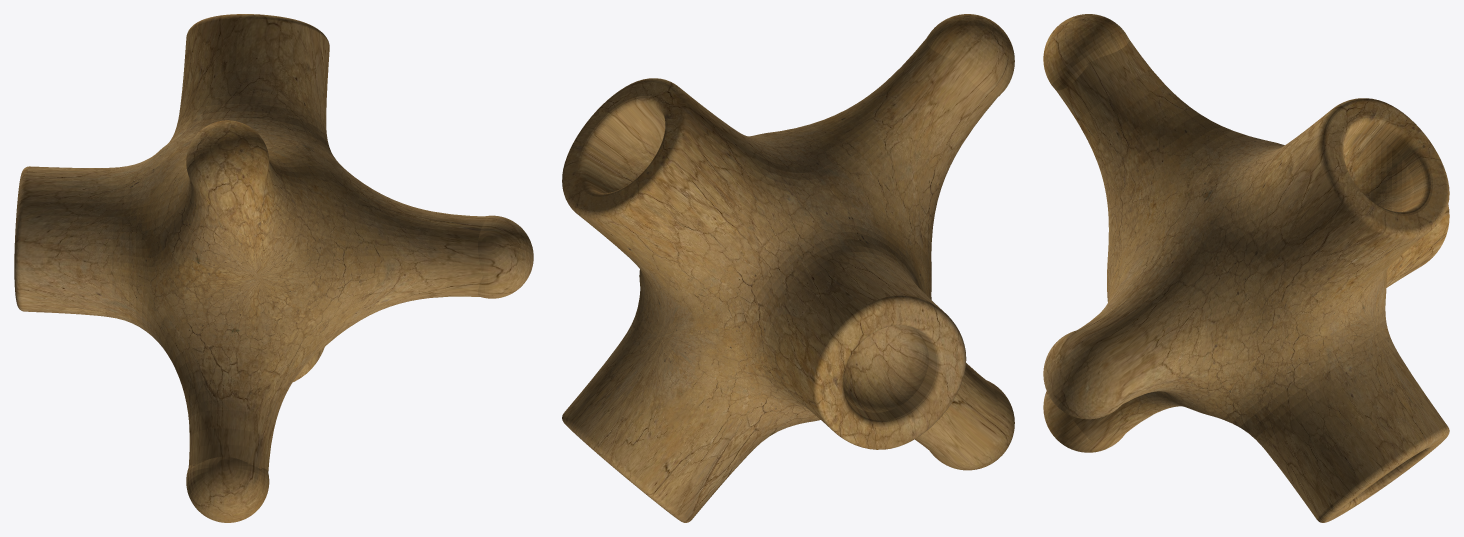
Rendered from Octa2.glb.
3 renders of one model, left to right at view 1: azimuth 30°, elevation 25°; view 2: azimuth 150°, elevation 25°; view 3: azimuth 270°, elevation 25°, orthographic. The views are drawn at different scales.
Parts seen in each view (by area): view 1: object_0_brick-foundation-1; view 2: object_0_brick-foundation-1; view 3: object_0_brick-foundation-1.
Part boxes in pixels (bbox=[...]): object_0_brick-foundation-1: bbox=[14, 14, 533, 522]; object_0_brick-foundation-1: bbox=[562, 14, 1014, 522]; object_0_brick-foundation-1: bbox=[1043, 14, 1449, 522].
Size of the model in its own units: 1.41 by 1.31 by 1.12.
1 material, 1 textured.
